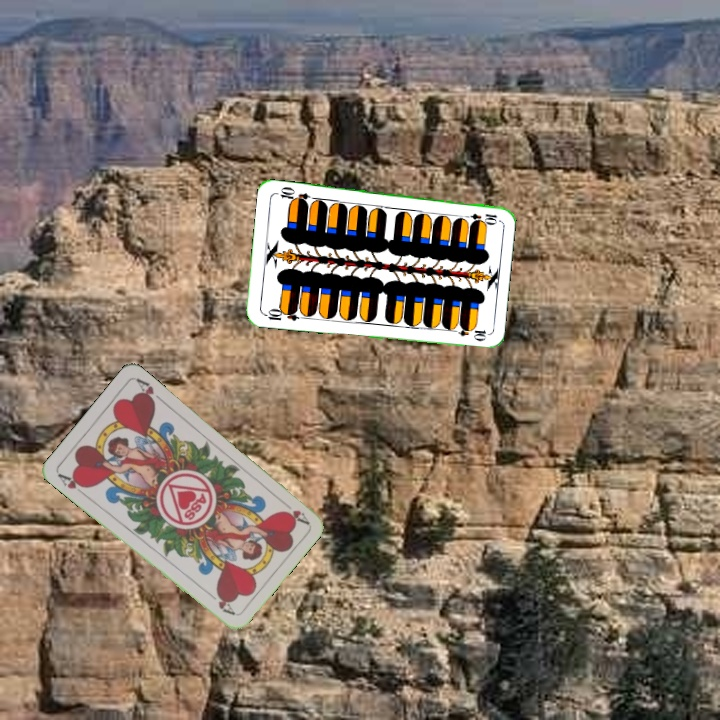E10: (260, 305, 300, 323), (459, 209, 500, 225)
HA: (276, 496, 311, 527), (54, 469, 89, 499)
